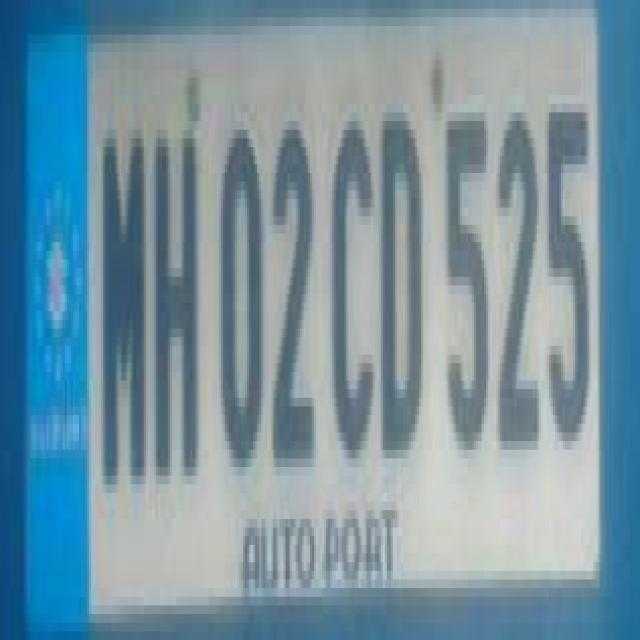license_plate: (18, 0, 640, 623)
